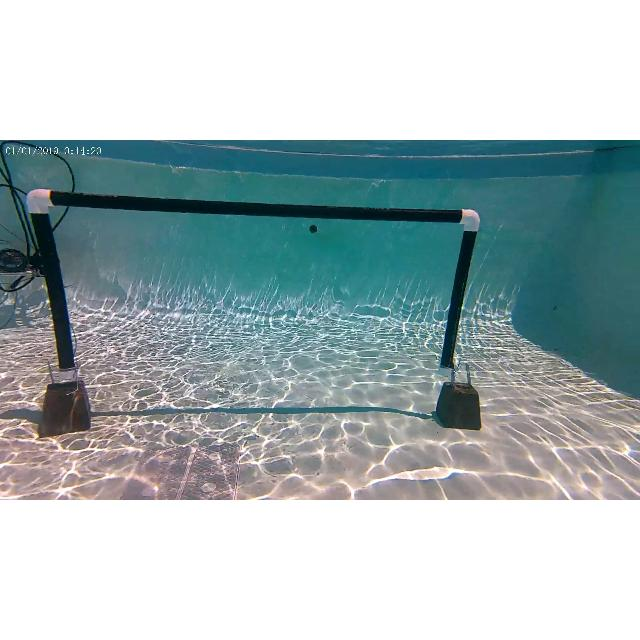prequal gate: (27, 188, 480, 380)
prequal gate leg l: (20, 185, 86, 389)
prequal gate leg r: (436, 192, 484, 384)
